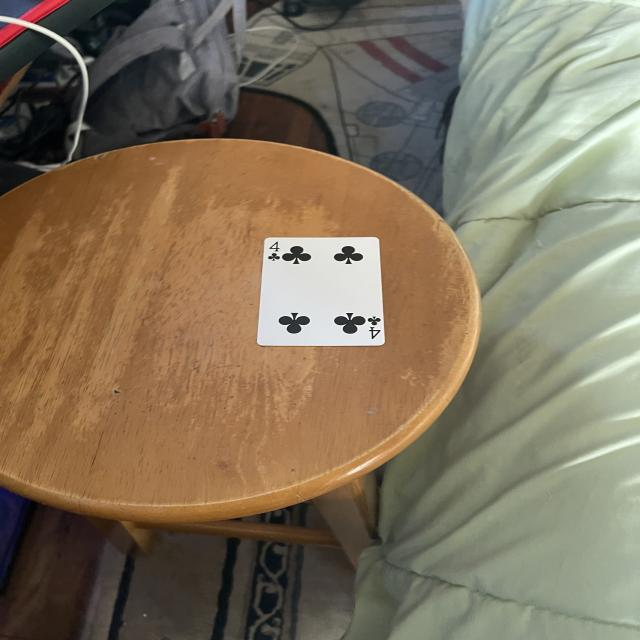4 of clubs: (232, 228, 392, 356)
